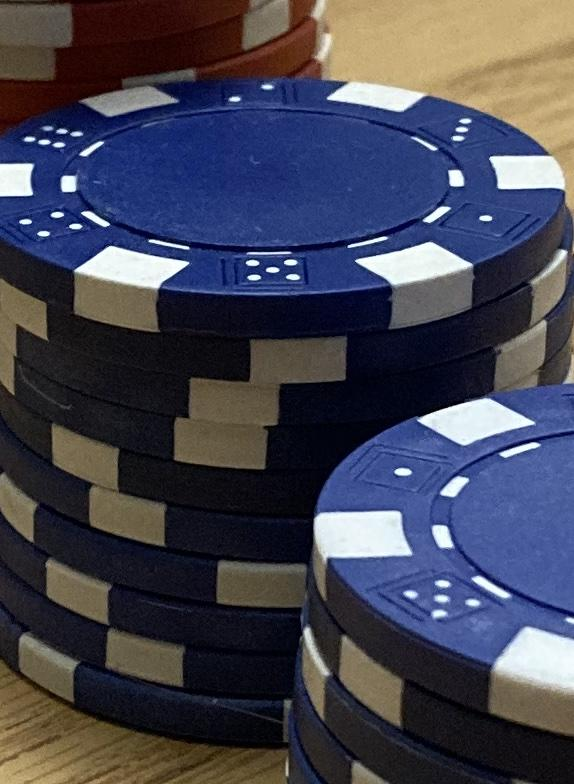Chip: (1, 1, 574, 784)
